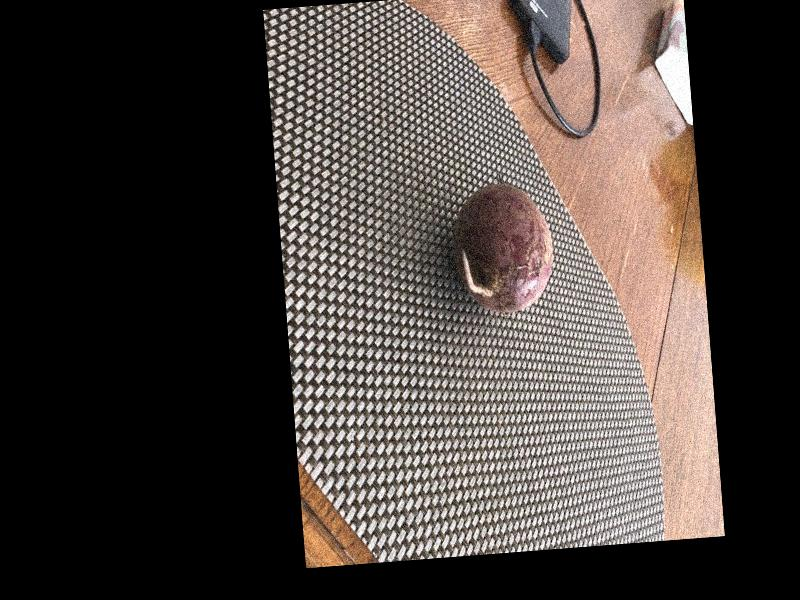Beet: (449, 179, 556, 315)
